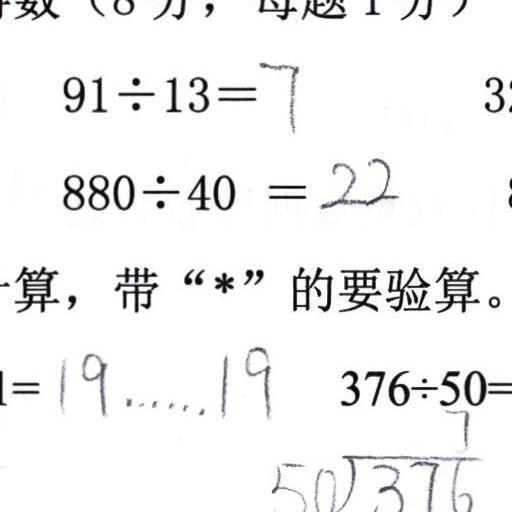ans: (53, 341, 274, 421), (318, 150, 398, 209), (256, 55, 299, 133)
